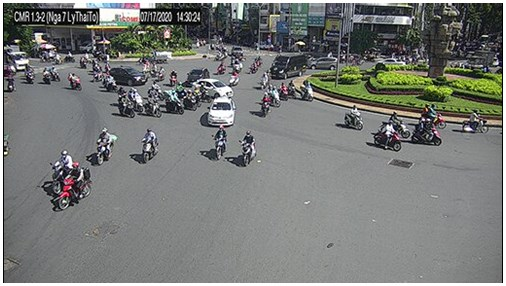xe_hoi: (204, 96, 237, 128), (193, 78, 234, 99), (105, 65, 146, 86), (309, 55, 339, 71), (185, 67, 210, 84)
xe_khach: (269, 52, 307, 80)
xe_may: (55, 163, 94, 211), (50, 149, 75, 192), (410, 119, 445, 147), (374, 120, 402, 153), (461, 106, 490, 136), (95, 126, 117, 165), (139, 126, 160, 165), (379, 110, 409, 137), (237, 130, 257, 168), (418, 102, 446, 128), (341, 103, 364, 130), (164, 86, 183, 116), (142, 89, 161, 119), (114, 93, 135, 119), (213, 125, 229, 159), (183, 89, 198, 114), (66, 71, 82, 93), (301, 79, 317, 101), (21, 62, 35, 86), (260, 91, 272, 117), (102, 74, 117, 92), (258, 70, 271, 89), (167, 67, 179, 87), (227, 70, 240, 87), (41, 66, 51, 85), (5, 72, 15, 91), (77, 54, 88, 71), (214, 60, 226, 75), (277, 83, 287, 101), (286, 79, 296, 96), (247, 61, 258, 75)
